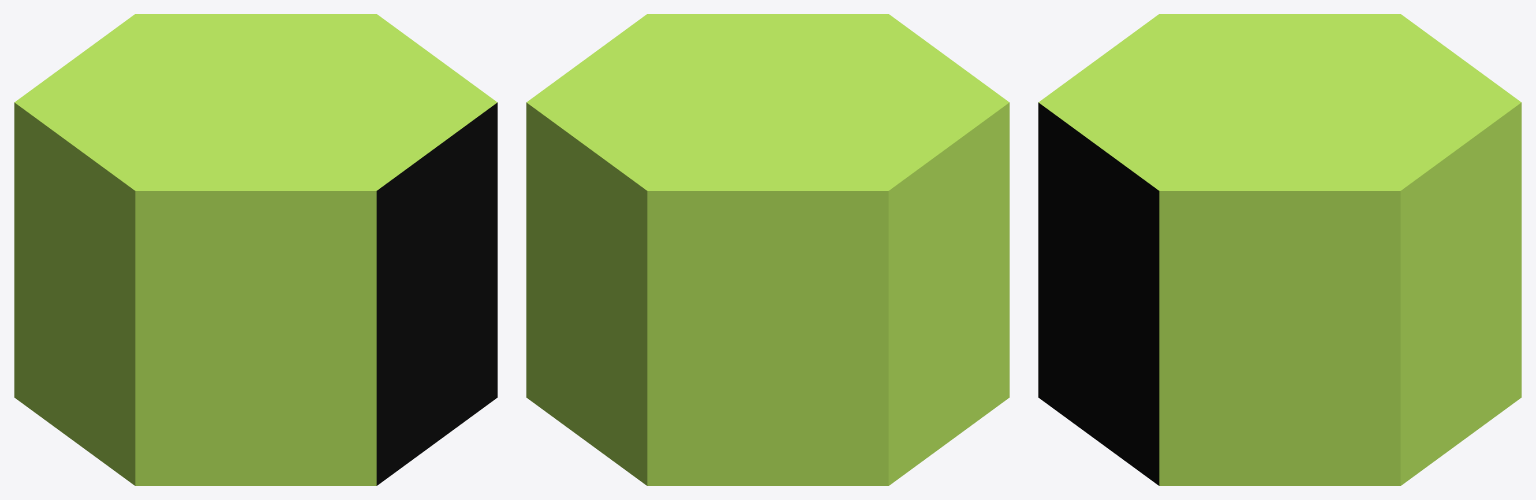
The model's file is spawn_ally.glb.
3 renders of one model, left to right at view 1: azimuth 30°, elevation 25°; view 2: azimuth 150°, elevation 25°; view 3: azimuth 270°, elevation 25°, orthographic.
Visible parts, largest first — view 1: SpawnAlly-col; view 2: SpawnAlly-col; view 3: SpawnAlly-col.
Part boxes in pixels (x1,y1,x2,y2): SpawnAlly-col: (14,14,497,485); SpawnAlly-col: (526,14,1009,485); SpawnAlly-col: (1038,14,1521,485).
Size of the model in its own units: 0.6424 by 0.5 by 0.7418.
1 material, 1 textured.
